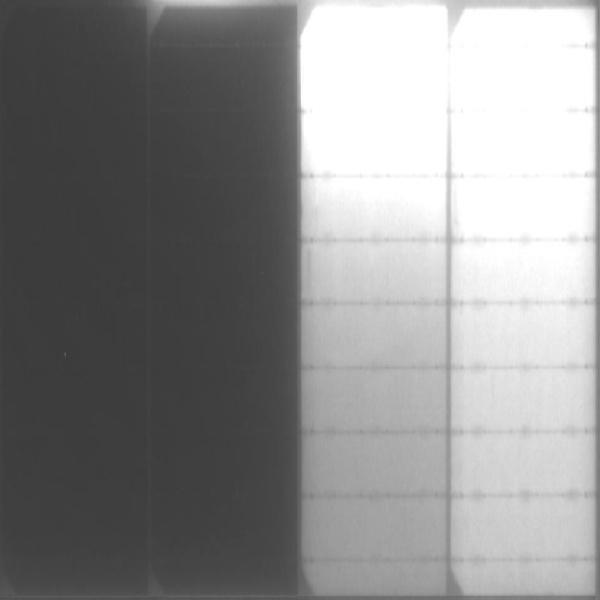hot_spot: (314, 7, 444, 107), (458, 110, 589, 168), (451, 53, 591, 105), (309, 120, 442, 170), (463, 181, 585, 232), (463, 13, 583, 47)
no_electricity: (1, 1, 297, 597)
